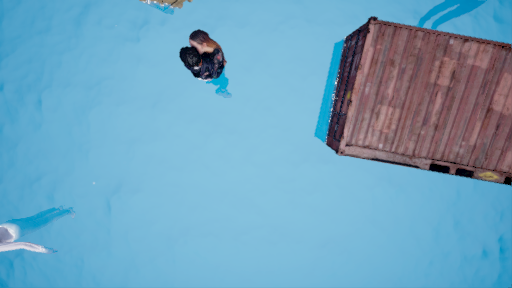person: (170, 29, 235, 100)
